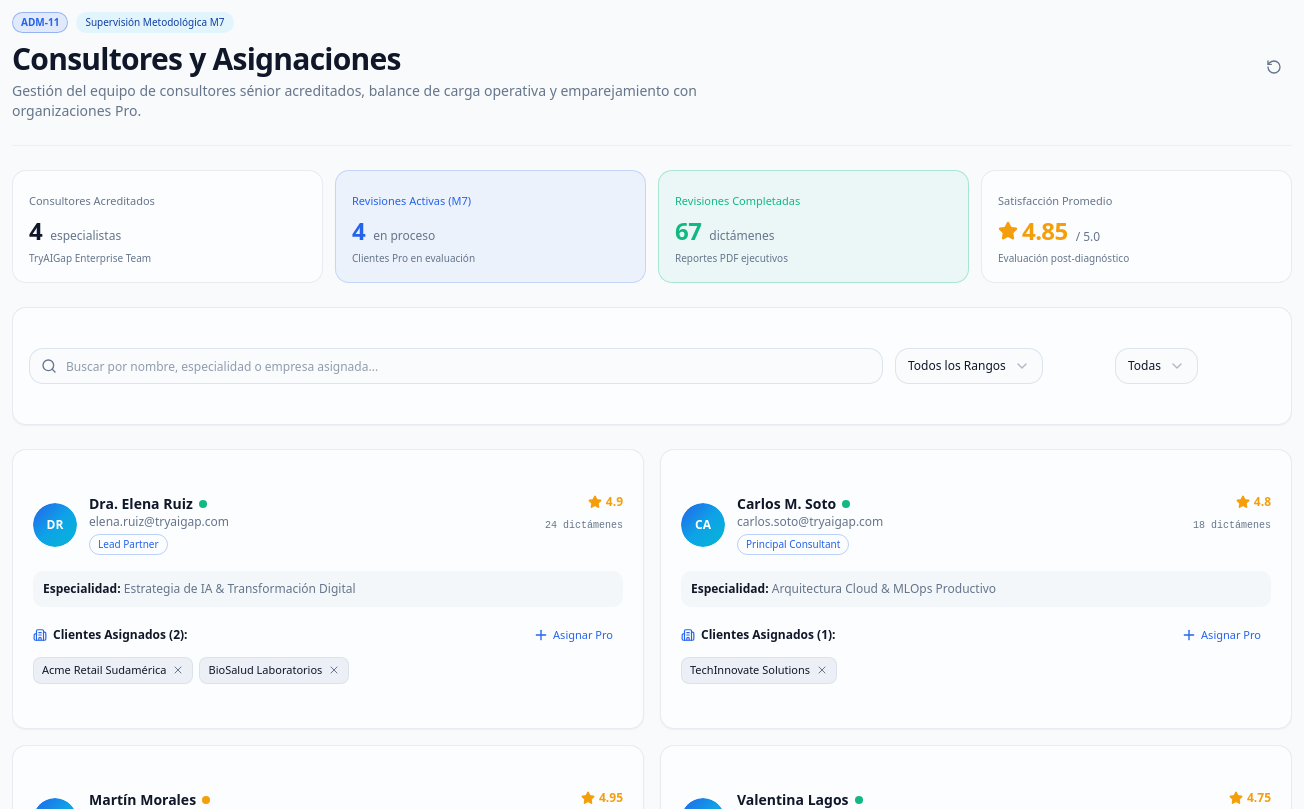
Test: AdminConsultants Page › filters consultants by search input
The width and height of the screenshot is (1304, 809).
In the field with placeholder "Buscar por nombre, especialidad o empresa asignada...": (456, 366) [29,348,883,384], type "MLOps"
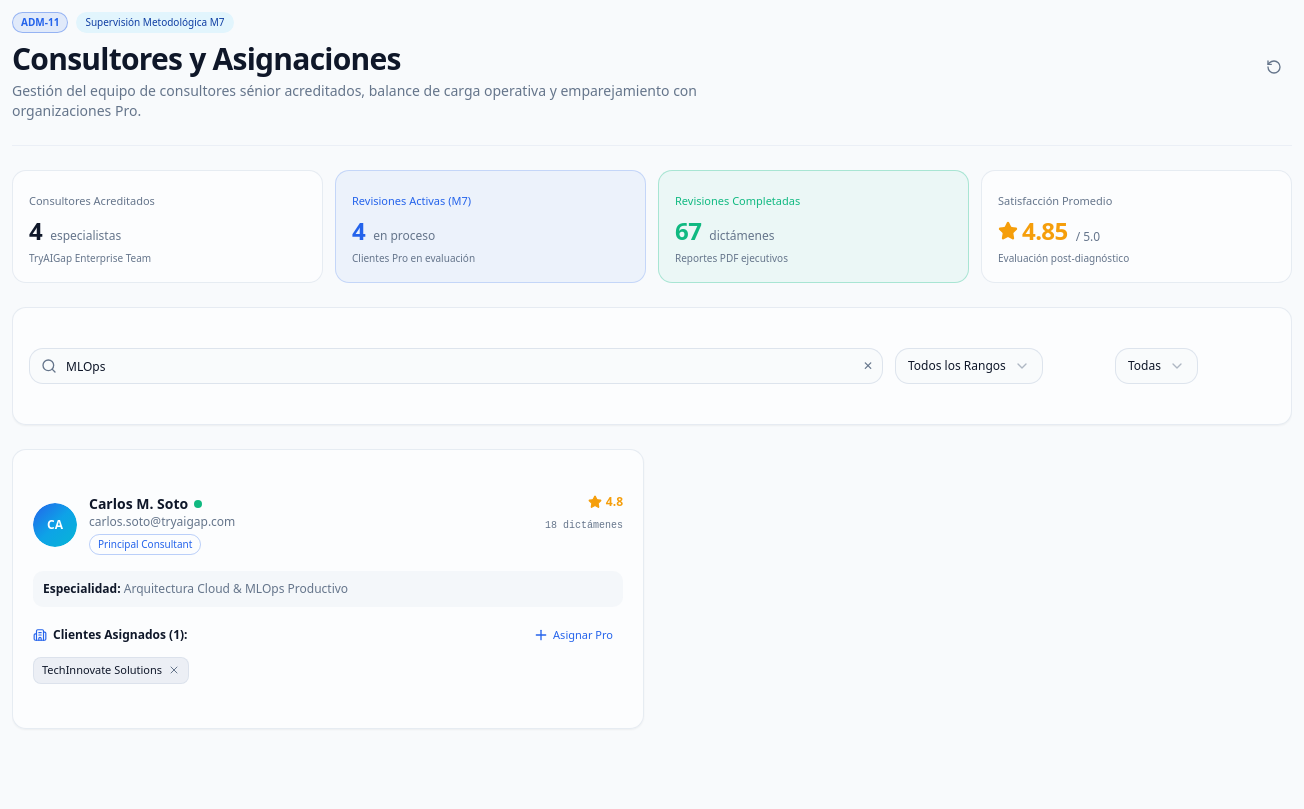
Expected: the heading "Carlos M. Soto" is shown, [89,494,202,513]
Expected: the heading "Dra. Elena Ruiz" is gone
